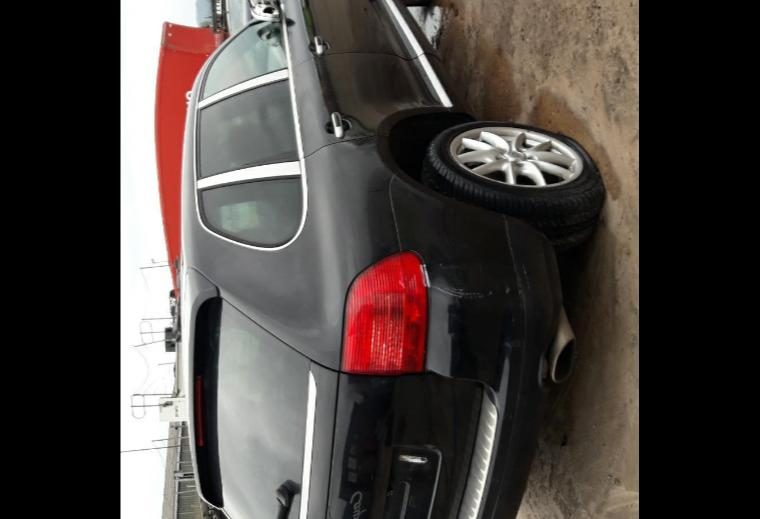Broken part: (424, 116, 606, 216), (250, 0, 282, 20)
Scratch: (434, 260, 534, 298), (394, 98, 434, 110)
